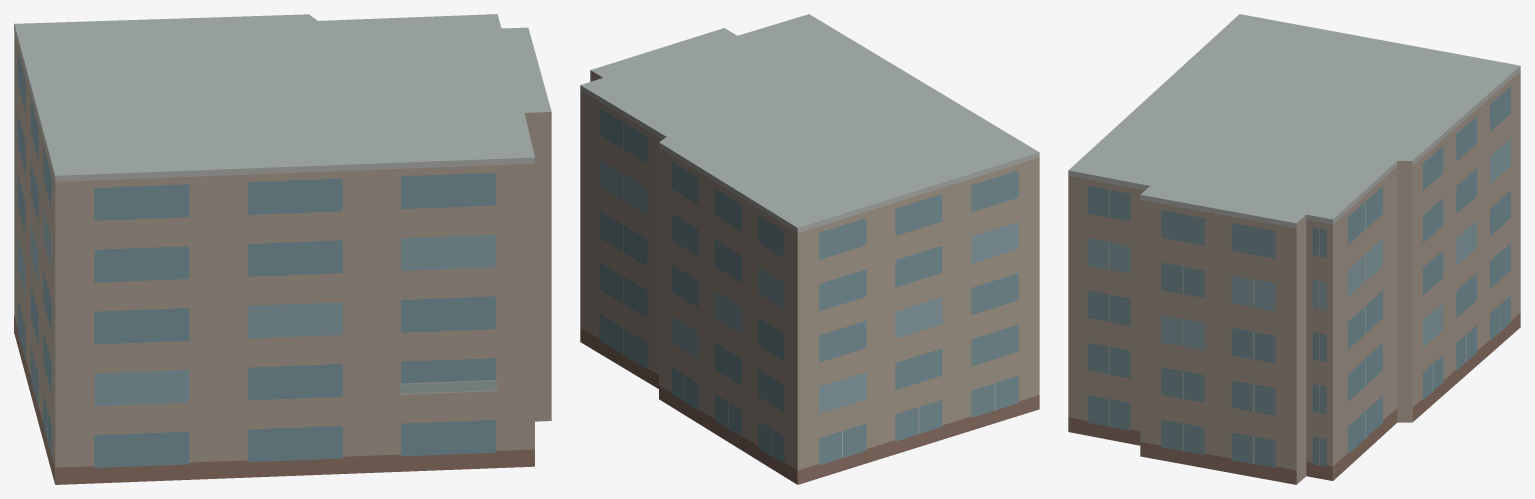
File: survey-upis-32476136.glb
The picture shows the model from 3 angles, left to right: view 1: azimuth 30°, elevation 25°; view 2: azimuth 150°, elevation 25°; view 3: azimuth 270°, elevation 25°; orthographic projection. The views are drawn at different scales.
Parts seen in each view (by area): view 1: survey-upis-32476136.tmp; view 2: survey-upis-32476136.tmp; view 3: survey-upis-32476136.tmp.
Part boxes in pixels (<box>): survey-upis-32476136.tmp: <box>14,14,551,484</box>; survey-upis-32476136.tmp: <box>580,14,1039,484</box>; survey-upis-32476136.tmp: <box>1068,14,1520,484</box>.
Size of the model in its own units: 20.95 by 12.2 by 19.13.
